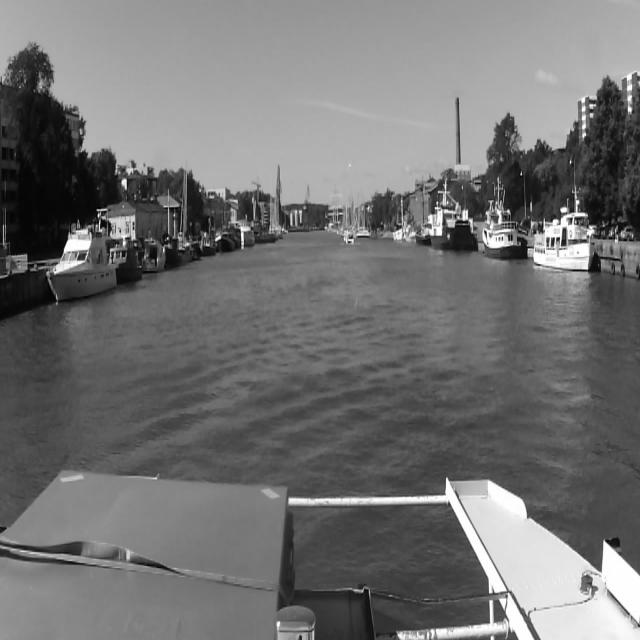ship: (41, 223, 116, 302), (530, 193, 596, 273), (481, 183, 523, 265), (425, 187, 473, 257), (110, 247, 140, 283), (143, 238, 165, 276), (239, 220, 253, 250), (253, 230, 277, 244), (344, 229, 354, 248)
